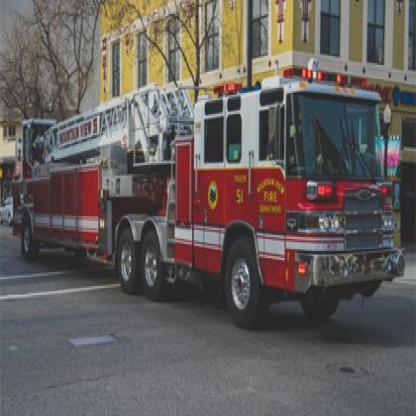fire-truck: (18, 56, 414, 375)
